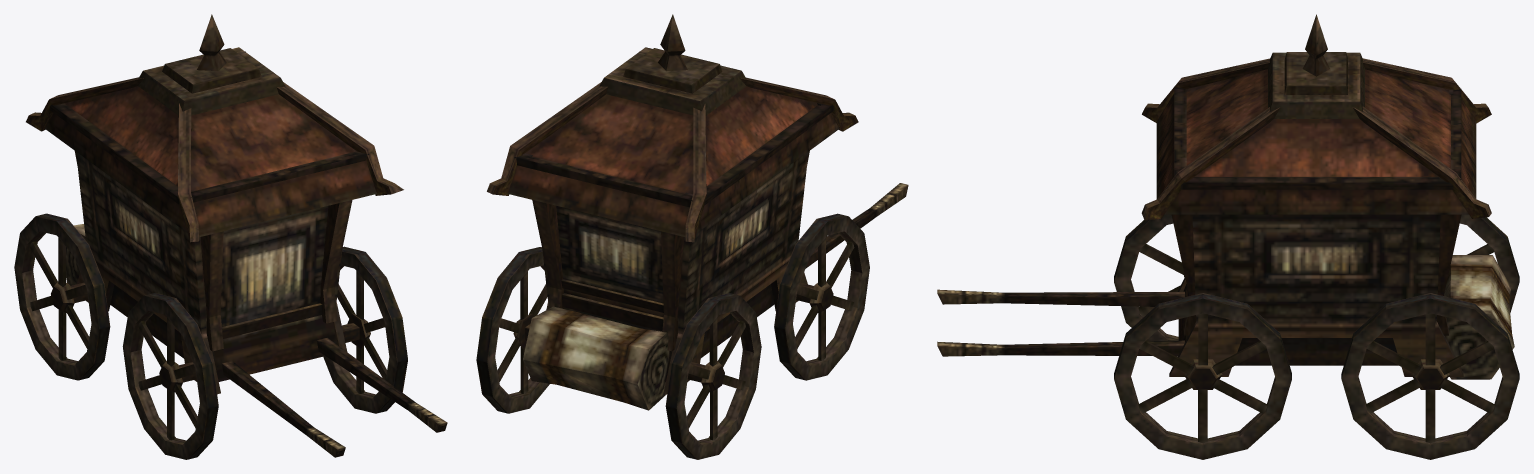
The model's file is general_obj_carriage_01.glb.
3 renders of one model, left to right at view 1: azimuth 30°, elevation 25°; view 2: azimuth 150°, elevation 25°; view 3: azimuth 270°, elevation 25°, orthographic. The views are drawn at different scales.
Visible parts, largest first — view 1: Object01; view 2: Object01; view 3: Object01.
Boxes of the visible parts, x1,y1,x2,y2 form: Object01: (14, 14, 447, 459); Object01: (476, 14, 908, 459); Object01: (937, 14, 1519, 459).
Bounding box in the file's own units: 2.58 × 4.33 × 5.78.
1 material, 1 textured.
